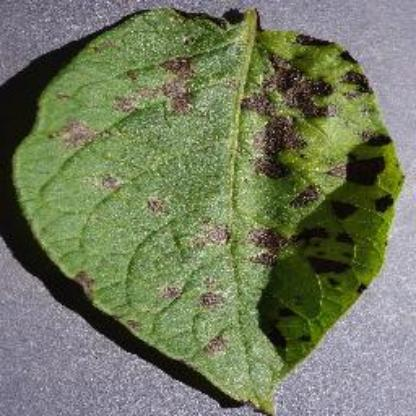Early-Blight: (13, 7, 398, 413)
